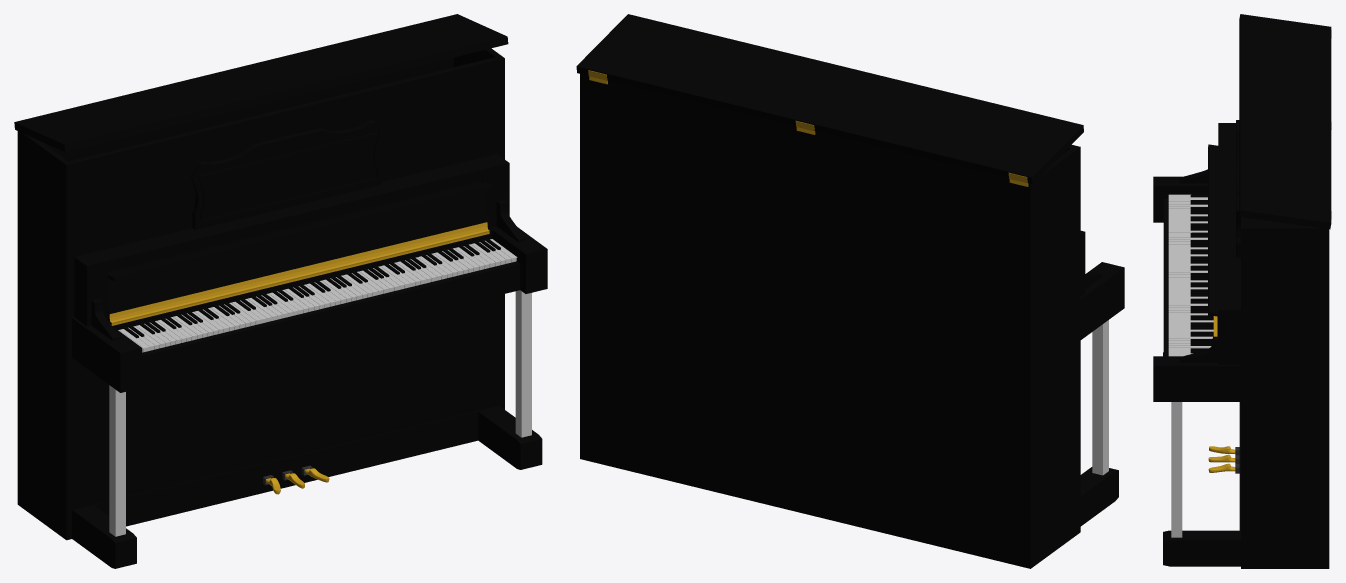
Rendered from piano.obj.
3 renders of one model, left to right at view 1: azimuth 30°, elevation 25°; view 2: azimuth 150°, elevation 25°; view 3: azimuth 270°, elevation 25°, orthographic. The views are drawn at different scales.
Visible parts, largest first — view 1: Cube, Plane.001, Cube.003_Cube.005, Cube.001, Cube.002, Cube.013; view 2: Cube, Cube.013; view 3: Cube, Cube.002, Cube.001, Plane.001, Cube.013, Cube.003_Cube.005, Cube.004_Cube.003, Cube.005_Cube.004.
Boxes of the visible parts, x1,y1,x2,y2 form: Cube: [14, 14, 547, 568]; Plane.001: [108, 180, 493, 325]; Cube.003_Cube.005: [190, 120, 383, 229]; Cube.001: [74, 154, 509, 326]; Cube.002: [118, 238, 517, 352]; Cube.013: [109, 290, 531, 536]; Cube: [576, 14, 1124, 568]; Cube.013: [1092, 320, 1108, 475]; Cube: [1153, 14, 1331, 568]; Cube.002: [1168, 194, 1213, 356]; Cube.001: [1218, 123, 1240, 364]; Plane.001: [1208, 144, 1218, 336]; Cube.013: [1171, 402, 1182, 537]; Cube.003_Cube.005: [1236, 120, 1240, 257]; Cube.004_Cube.003: [1179, 336, 1218, 362]; Cube.005_Cube.004: [1179, 169, 1207, 183].
Size of the model in its own units: 141 by 121 by 54.26.
